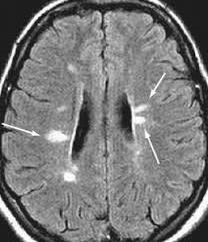Normal_Brain: (6, 1, 208, 242)
